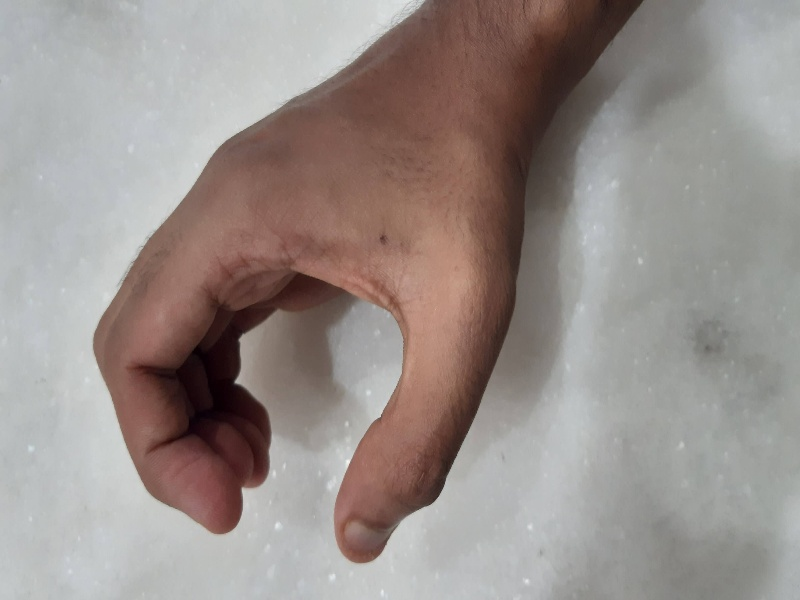one: (82, 93, 544, 571)
